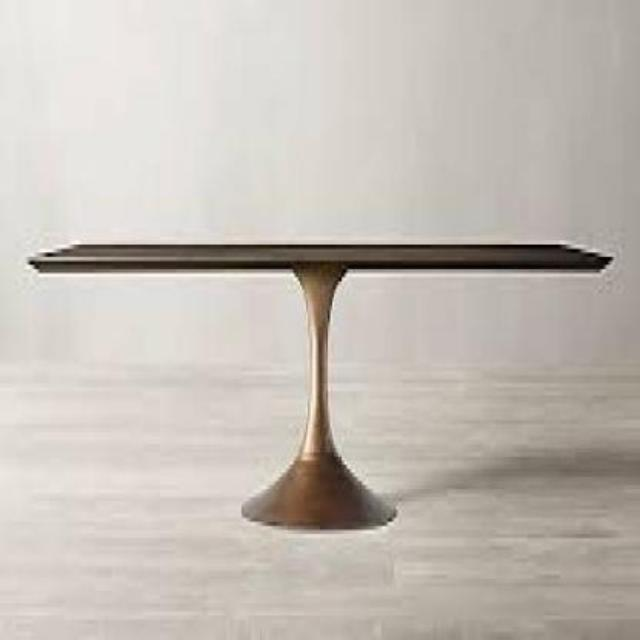table: (30, 240, 610, 533)
